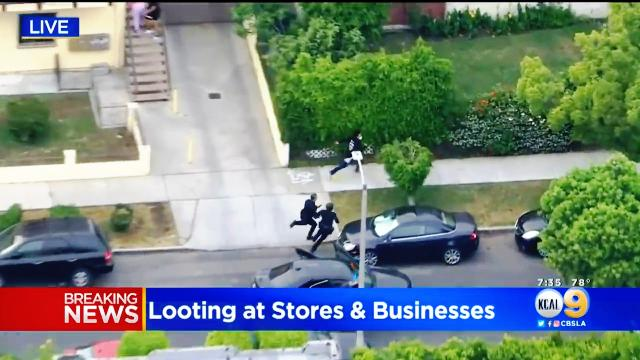berlari: (307, 200, 345, 256), (328, 126, 366, 178), (288, 186, 318, 238)
